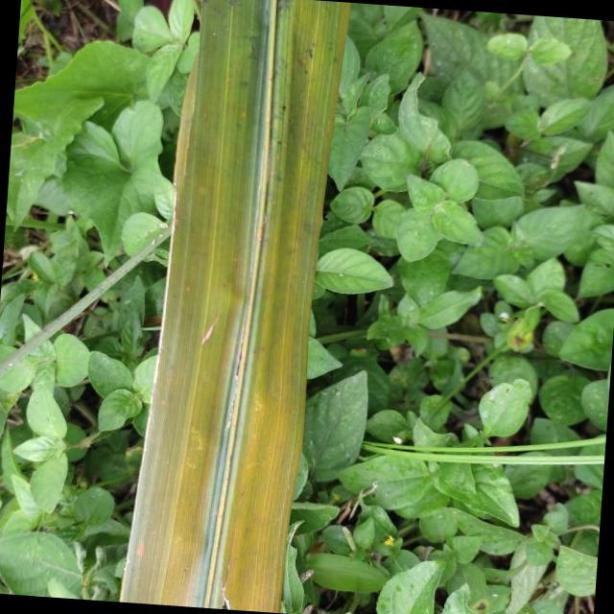Megnesium: (115, 0, 352, 614)
